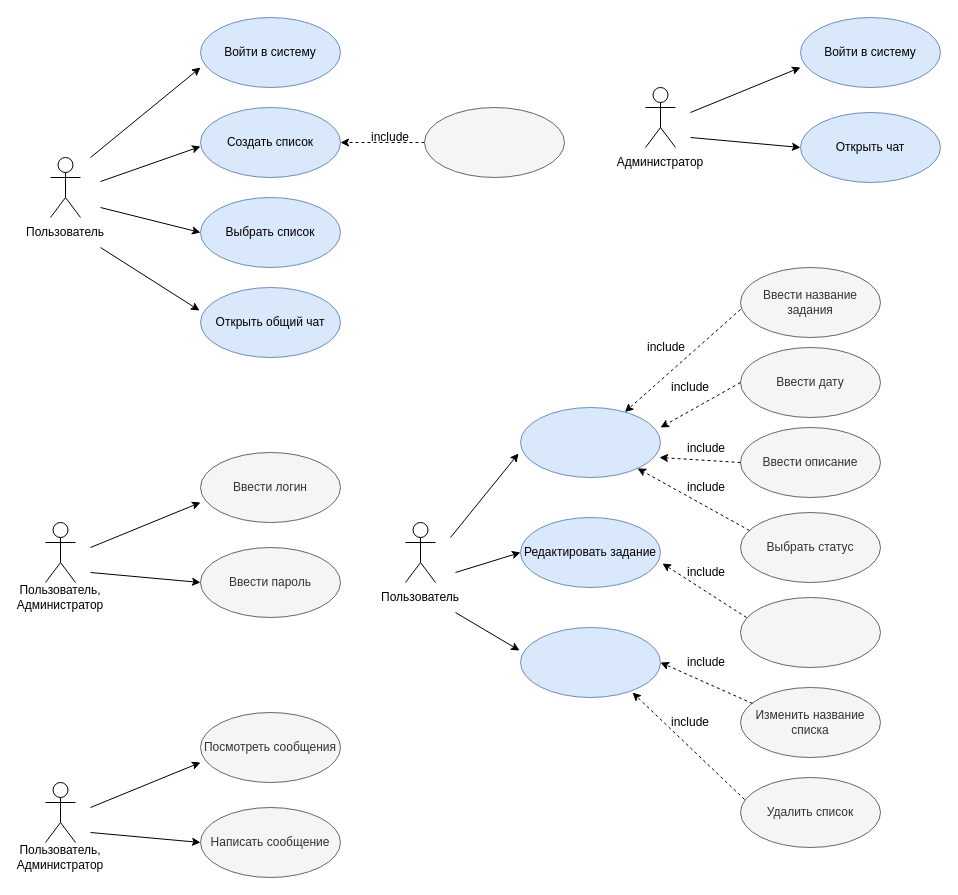
This 958x895 diagram has some shape labels left out. Each missing label, with the centre of its shape:
Ввести название: the point at 494,142
Редактировать список: the point at 590,662
Создать задание в списке: the point at 590,442
Удалить задание: the point at 810,632
